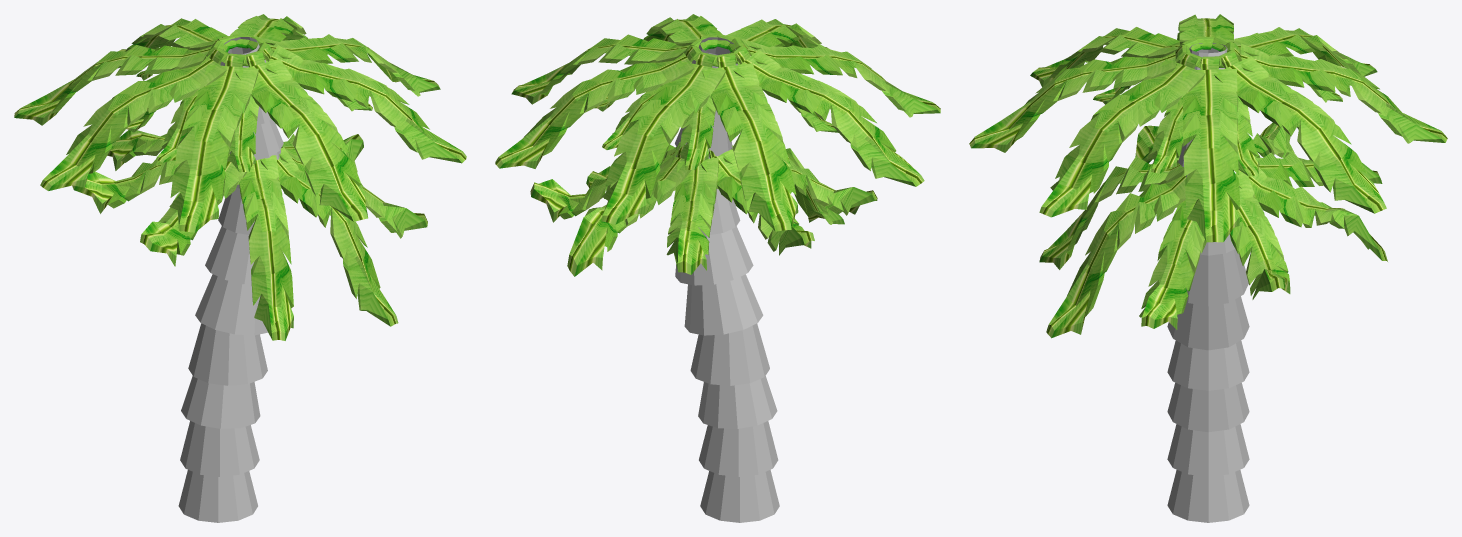
File: palmtree2.fbx
The picture shows the model from 3 angles, left to right: view 1: azimuth 30°, elevation 25°; view 2: azimuth 150°, elevation 25°; view 3: azimuth 270°, elevation 25°; orthographic projection. The views are drawn at different scales.
Parts seen in each view (by area): view 1: palmtree.001; view 2: palmtree.001; view 3: palmtree.001.
Boxes of the visible parts, x1,y1,x2,y2 form: palmtree.001: [14, 14, 466, 522]; palmtree.001: [495, 14, 940, 522]; palmtree.001: [969, 14, 1447, 522].
Bounding box in the file's own units: 1762 × 1915 × 1762.
